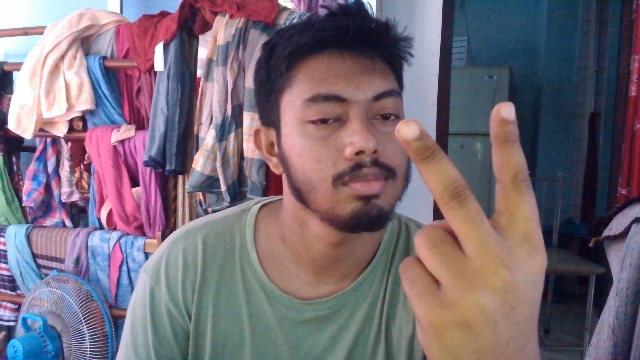thanks: (390, 99, 558, 353)
